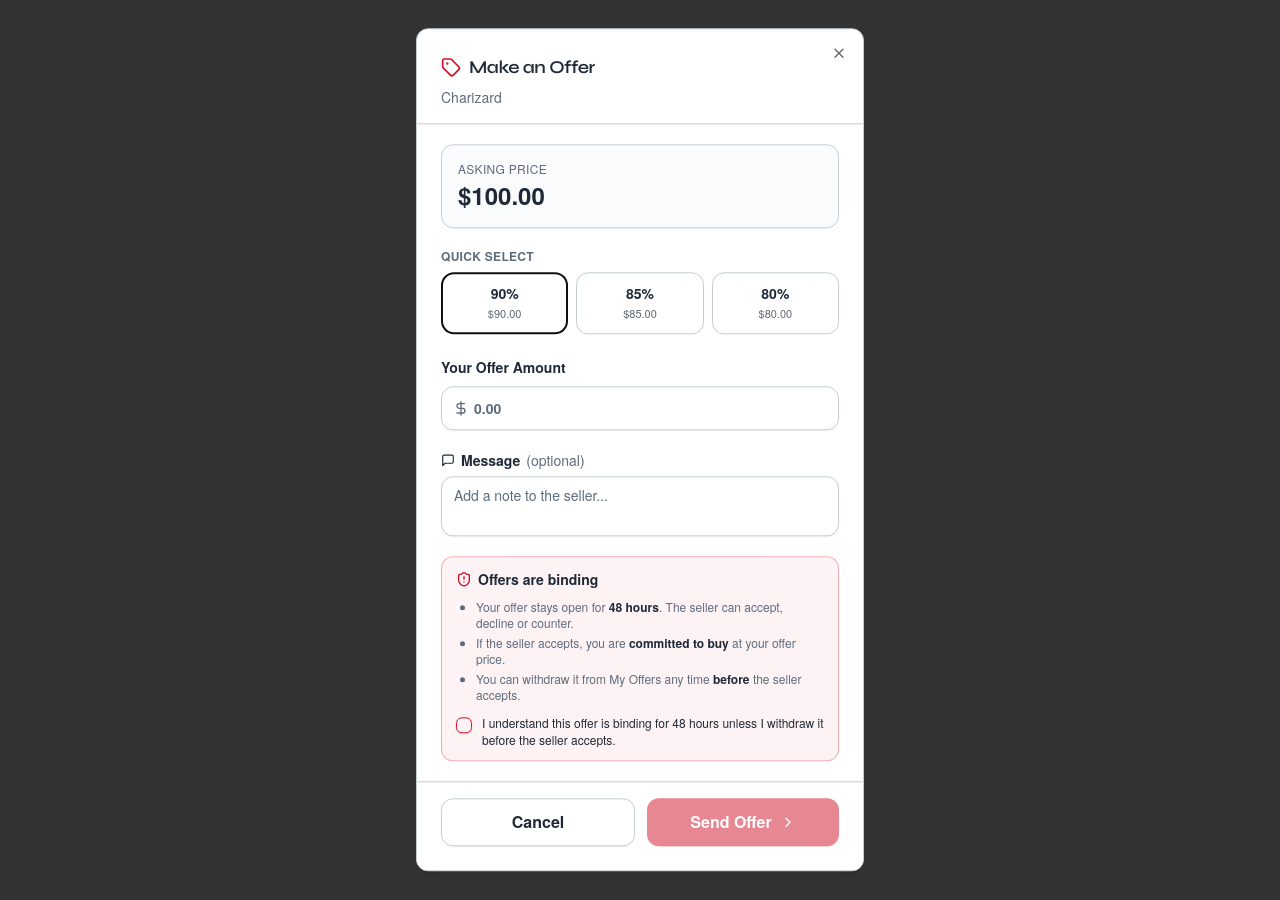
Test: MakeOfferModal — binding offer › keeps Send disabled until the buyer ticks the binding acknowledgement
Type "90" into the number field labelled "Your Offer Amount".
click(640, 409); type("90")  # box [441,387,839,431]
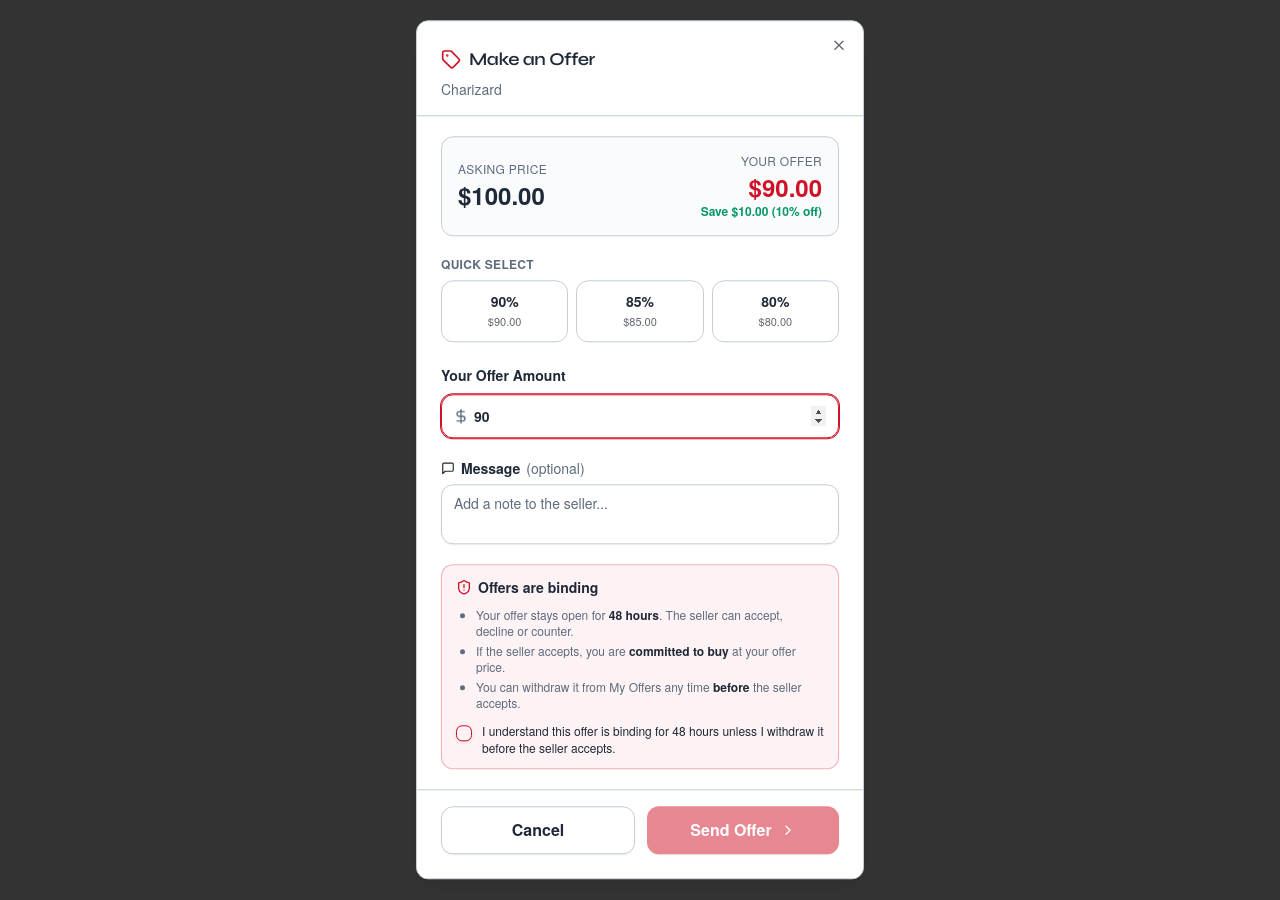
Click the button "Send Offer".
click(743, 831)  # box [647,807,839,855]
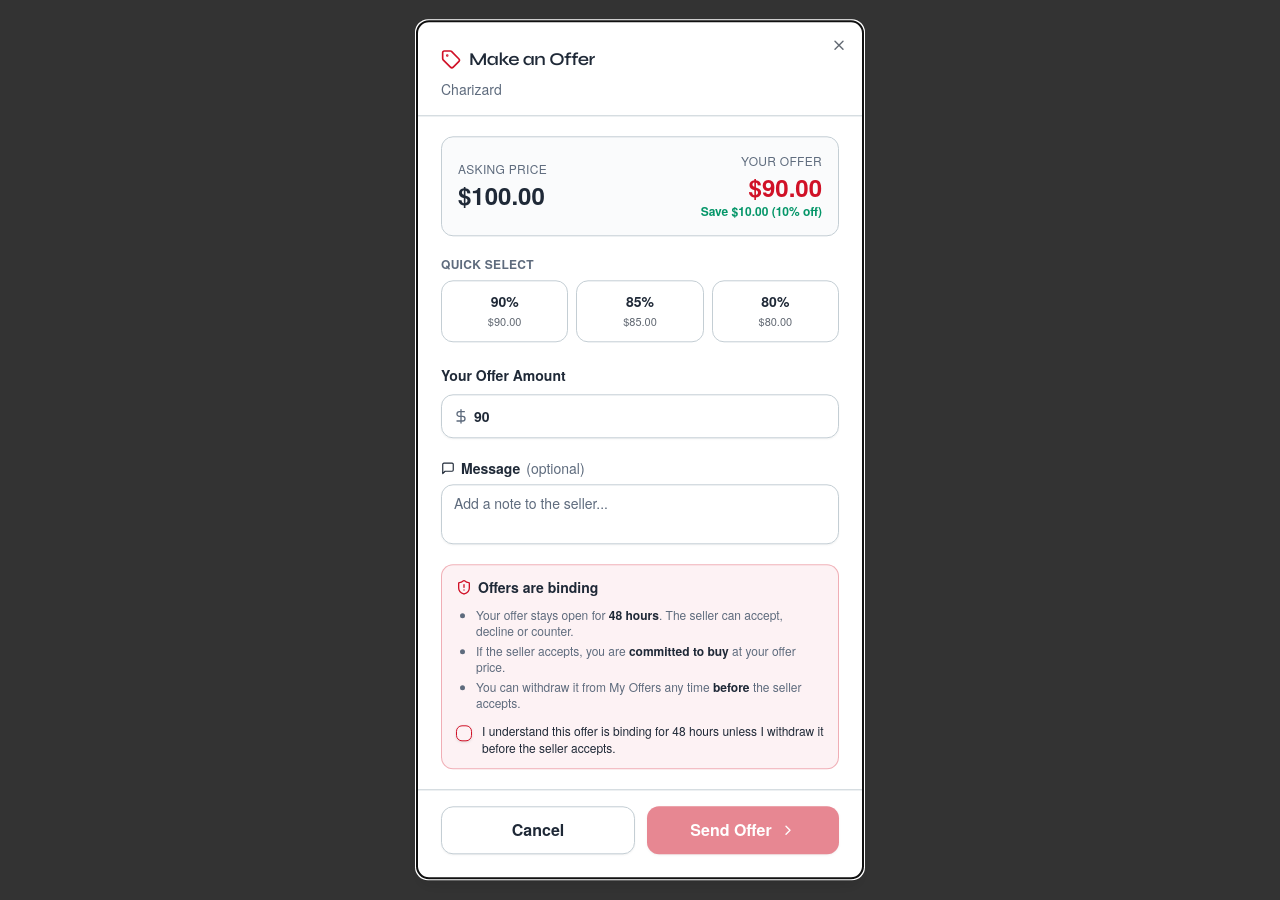
Click the checkbox named "binding".
click(464, 734)  # box [456,726,472,742]
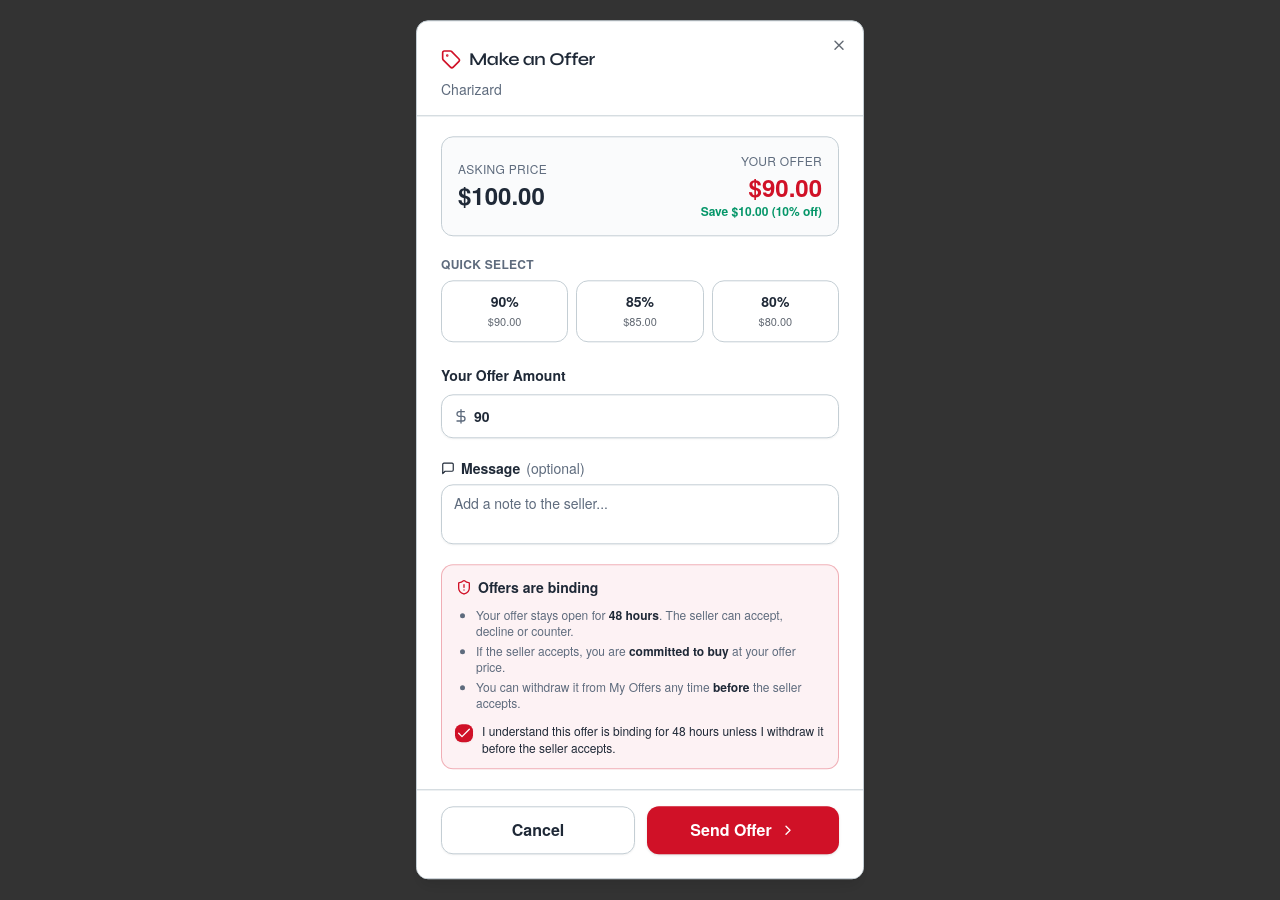
Expected: the button "Send Offer" is enabled, [647,807,839,855]
